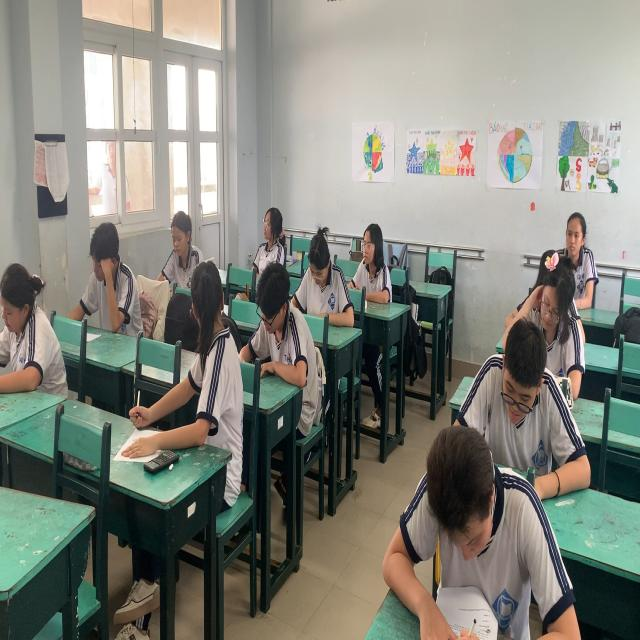cheating: (187, 262, 237, 445), (0, 259, 58, 397)
not_cheating: (379, 435, 560, 635), (472, 320, 574, 486), (527, 252, 585, 403), (243, 255, 309, 382), (72, 223, 142, 341), (299, 213, 354, 331), (554, 209, 600, 317), (340, 214, 393, 300), (155, 196, 200, 272), (248, 206, 291, 268)
